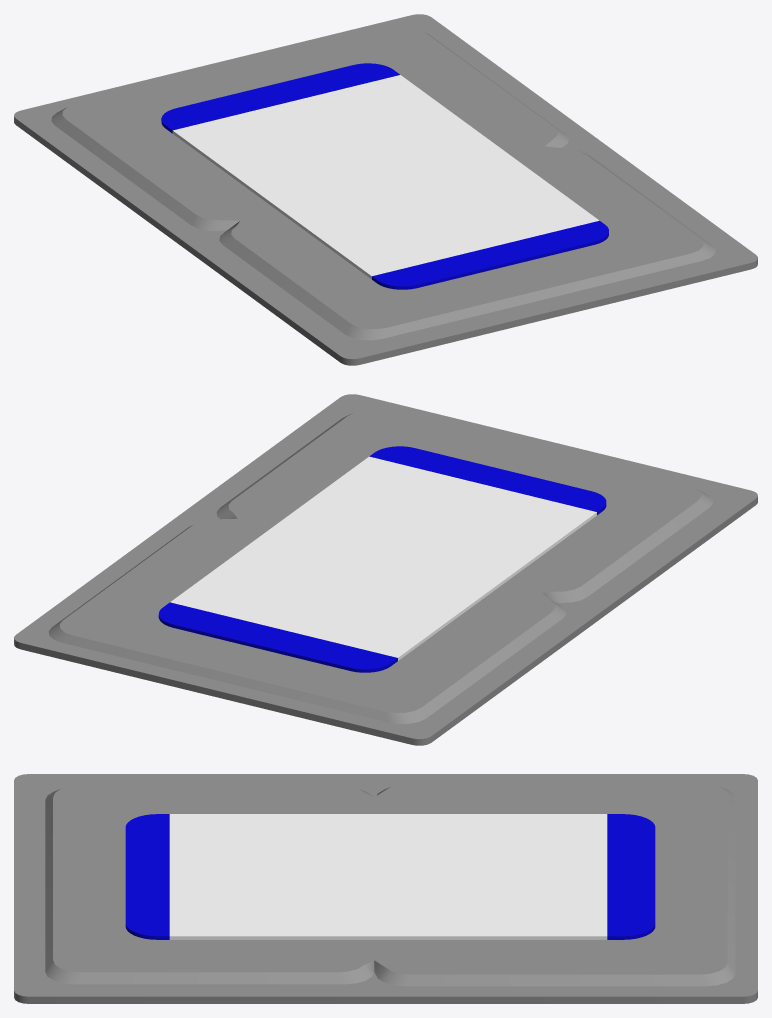
File: disk top.fbx
3 views of the same model, one above another, from view 1: azimuth 30°, elevation 25°; view 2: azimuth 150°, elevation 25°; view 3: azimuth 270°, elevation 25° (orthographic). The views are drawn at different scales.
Parts seen in each view (by area): view 1: Cube.005, Cube.007, Cube.006; view 2: Cube.005, Cube.007, Cube.006; view 3: Cube.005, Cube.007, Cube.006.
Boxes of the visible parts, x1=… form: Cube.005: x1=14, y1=14, x2=757, y2=365; Cube.007: x1=172, y1=75, x2=599, y2=279; Cube.006: x1=161, y1=63, x2=608, y2=289; Cube.005: x1=14, y1=394, x2=757, y2=745; Cube.007: x1=170, y1=456, x2=596, y2=660; Cube.006: x1=158, y1=446, x2=606, y2=672; Cube.005: x1=14, y1=774, x2=757, y2=1003; Cube.007: x1=169, y1=814, x2=607, y2=939; Cube.006: x1=125, y1=814, x2=655, y2=939.
Size of the model in its own units: 0.6563 by 0.025 by 0.9266.
